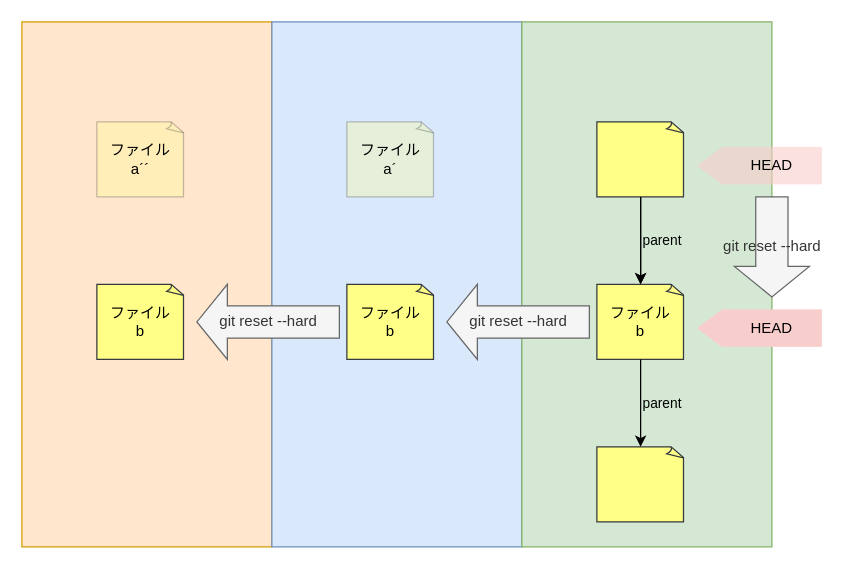
Some shapes in this 844 by 569 pixel diagram are drawn without their labels. The shapes that lost their labels are listed below. From the top down, each one's box as (x1, y1, x2, y2) in pixels, then its label:
(596, 121, 684, 197): ファイル a
(21, 21, 272, 547): 作業ディレクトリ
(271, 21, 522, 547): ステージング・エリア
(521, 21, 772, 547): データベース
(596, 446, 684, 522): ファイル c
